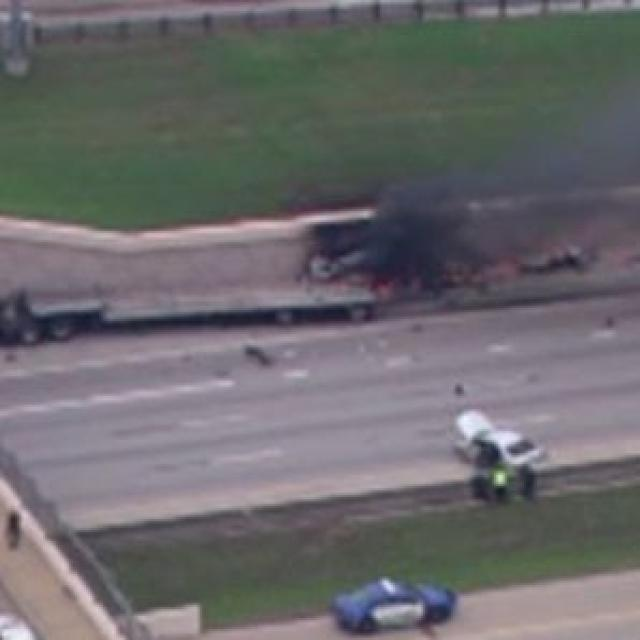traffic_incident: (298, 180, 606, 299), (449, 405, 543, 484)
